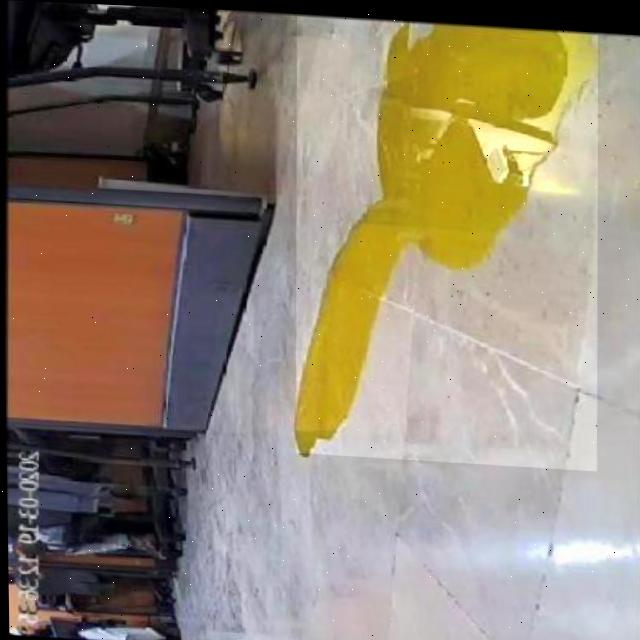spillage: (294, 19, 597, 449)
